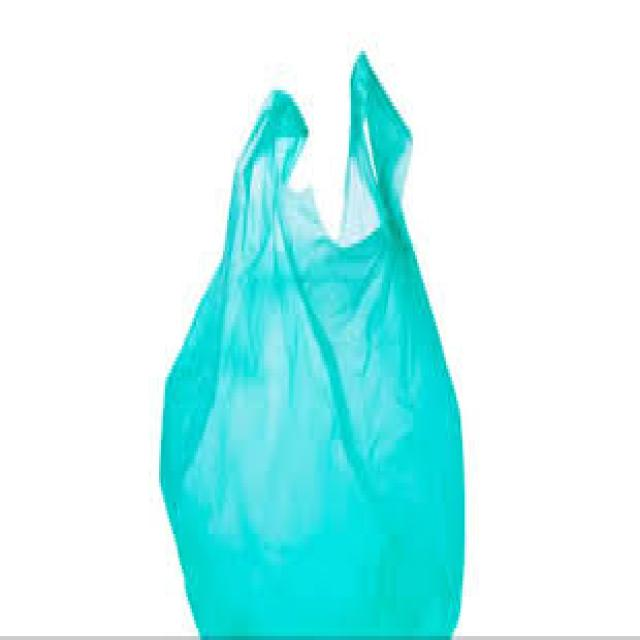plastic: (162, 55, 464, 636)
